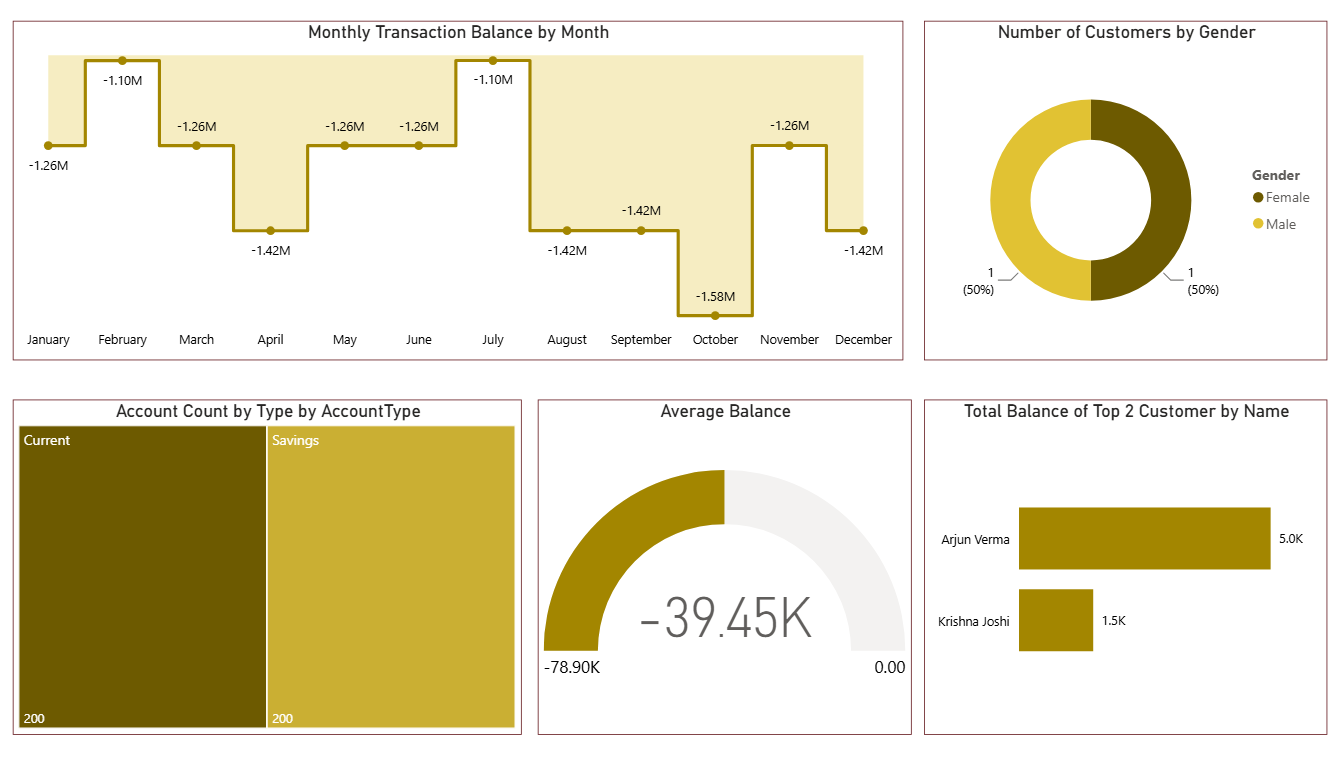

Layout of this report page (visuals, bound fields, positions):
{"tool":"powerbi","page":{"name":"Transaction Analysis 2","canvas":[1280,720],"ordinal":1},"visuals":[{"type":"donutChart","title":"Number of Customers by Gender","fields":{"Category":["CombinedBankingDataset.Gender"],"Y":["Measure Table 1.Customer Count by Gender"]},"box":[882.4,23,385.1,323.9],"z":1000},{"type":"areaChart","title":"Monthly Transaction Balance by Month","fields":{"Category":["CombinedBankingDataset.TransactionDate.Variation.Date Hierarchy.Month"],"Y":["Measure Table 1.Monthly Transaction Balance"]},"box":[12.8,23,849.3,323.9],"z":1001},{"type":"treemap","fields":{"Group":["CombinedBankingDataset.AccountType"],"Values":["Measure Table 1.Account Count by Type"]},"box":[12.8,383.8,485.8,320.1],"z":1002},{"type":"barChart","title":"Total Balance of Top 2 Customer by Name","fields":{"Category":["CombinedBankingDataset.Name"],"Y":["Measure Table 1.Total Balance"]},"box":[882.4,383.8,385.1,320.1],"z":1003},{"type":"gauge","fields":{"Y":["Measure Table 1.Average Balance"]},"box":[513.9,383.8,357,320.1],"z":1004}]}

Visuals, with their boxes in screenshot pixels (x1, y1, x2, y2), scaled from the page's 1280x720 canvas onto the 1341x766 screenshot:
"Number of Customers by Gender" donutChart: region(924, 24, 1328, 369)
"Monthly Transaction Balance by Month" areaChart: region(13, 24, 903, 369)
treemap - CombinedBankingDataset.AccountType x Measure Table 1.Account Count by Type: region(13, 408, 522, 749)
"Total Balance of Top 2 Customer by Name" barChart: region(924, 408, 1328, 749)
gauge - Measure Table 1.Average Balance: region(538, 408, 912, 749)
